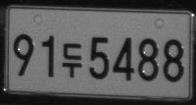1: (38, 35, 60, 77)
4: (111, 36, 134, 80)
5: (88, 36, 110, 79)
8: (137, 37, 160, 82), (162, 38, 184, 82)
9: (12, 33, 35, 75)
두: (61, 42, 82, 78)
